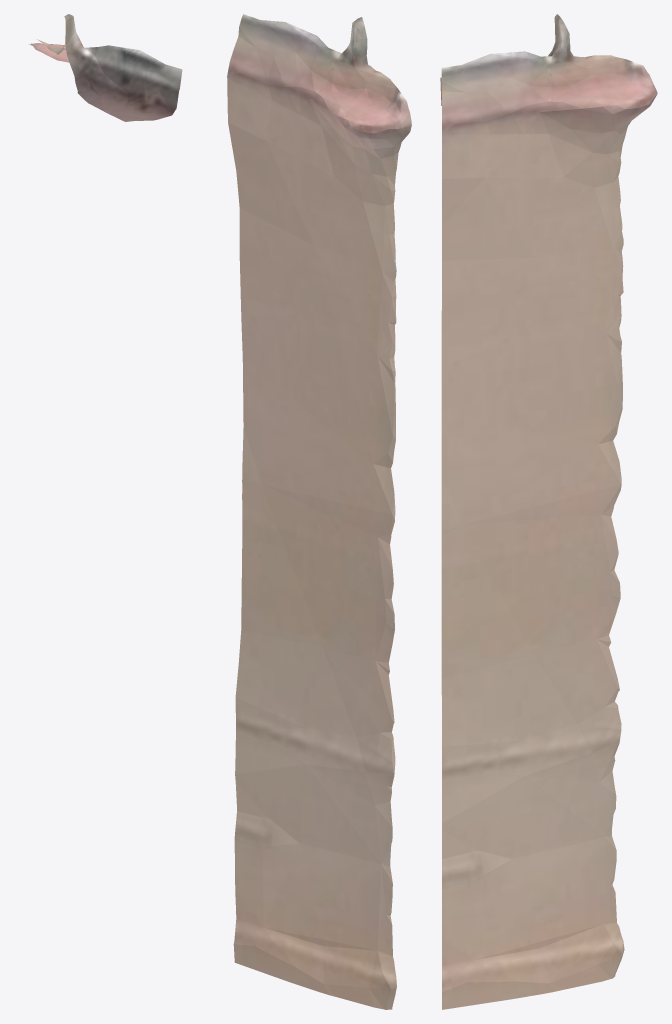
The model's file is Tile_+011_+008_L21_0000014100.glb.
3 renders of one model, left to right at view 1: azimuth 30°, elevation 25°; view 2: azimuth 210°, elevation 25°; view 3: azimuth 270°, elevation 25°, orthographic.
Visible parts, largest first — view 1: rtc; view 2: rtc; view 3: rtc.
Boxes of the visible parts, box(x1,y1,x2,y2) form: rtc: box(29, 14, 182, 121); rtc: box(227, 14, 411, 1009); rtc: box(440, 14, 657, 1009).
Size of the model in its own units: 2.44 by 28.96 by 5.92.
Materials: 1 (1 with a texture image).
